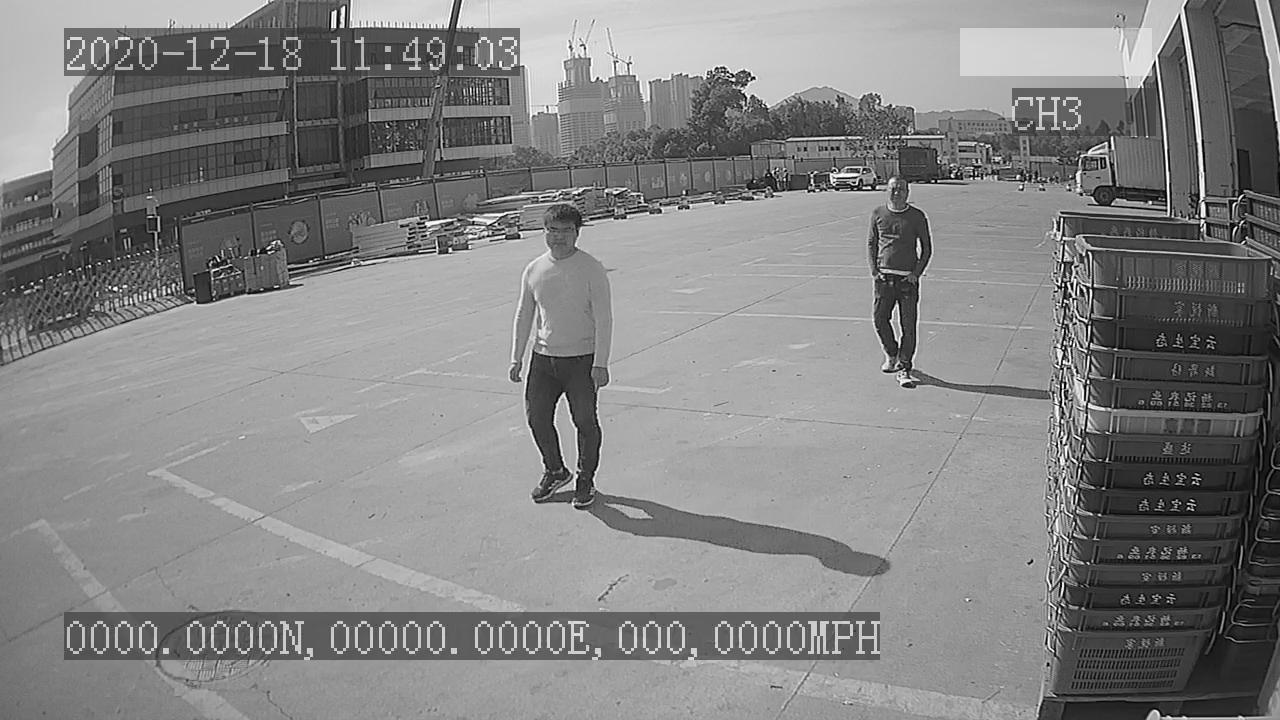person: (506, 201, 615, 513), (863, 172, 934, 390)
